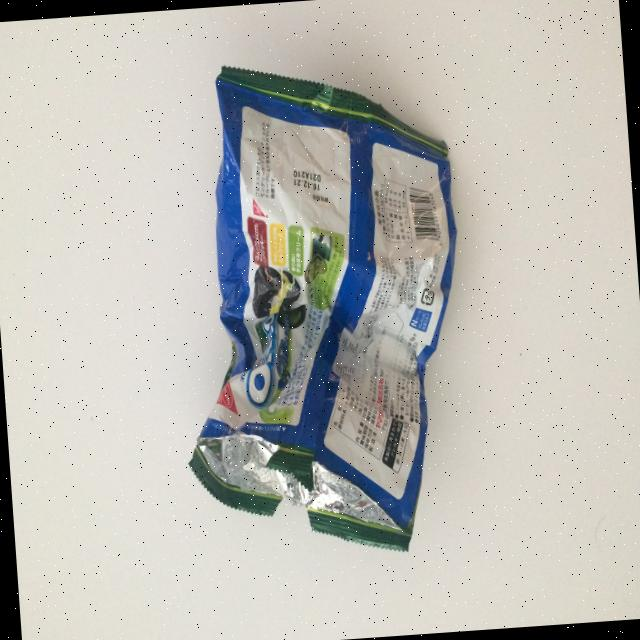plastic: (160, 49, 480, 566)
